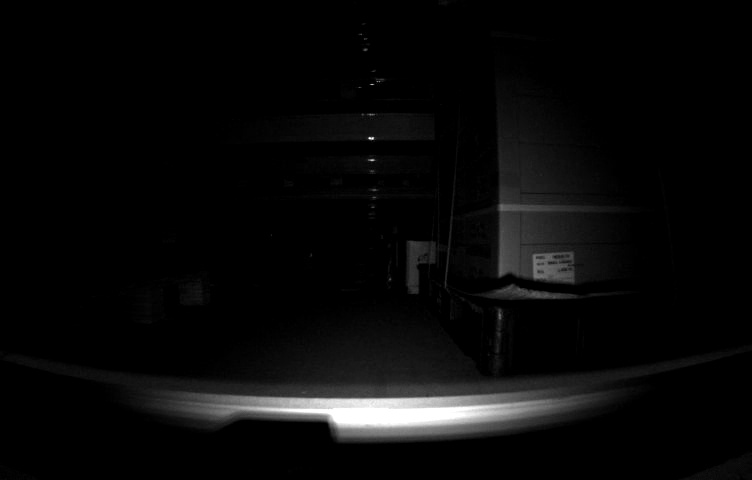True Barcode: (531, 252, 576, 288)
